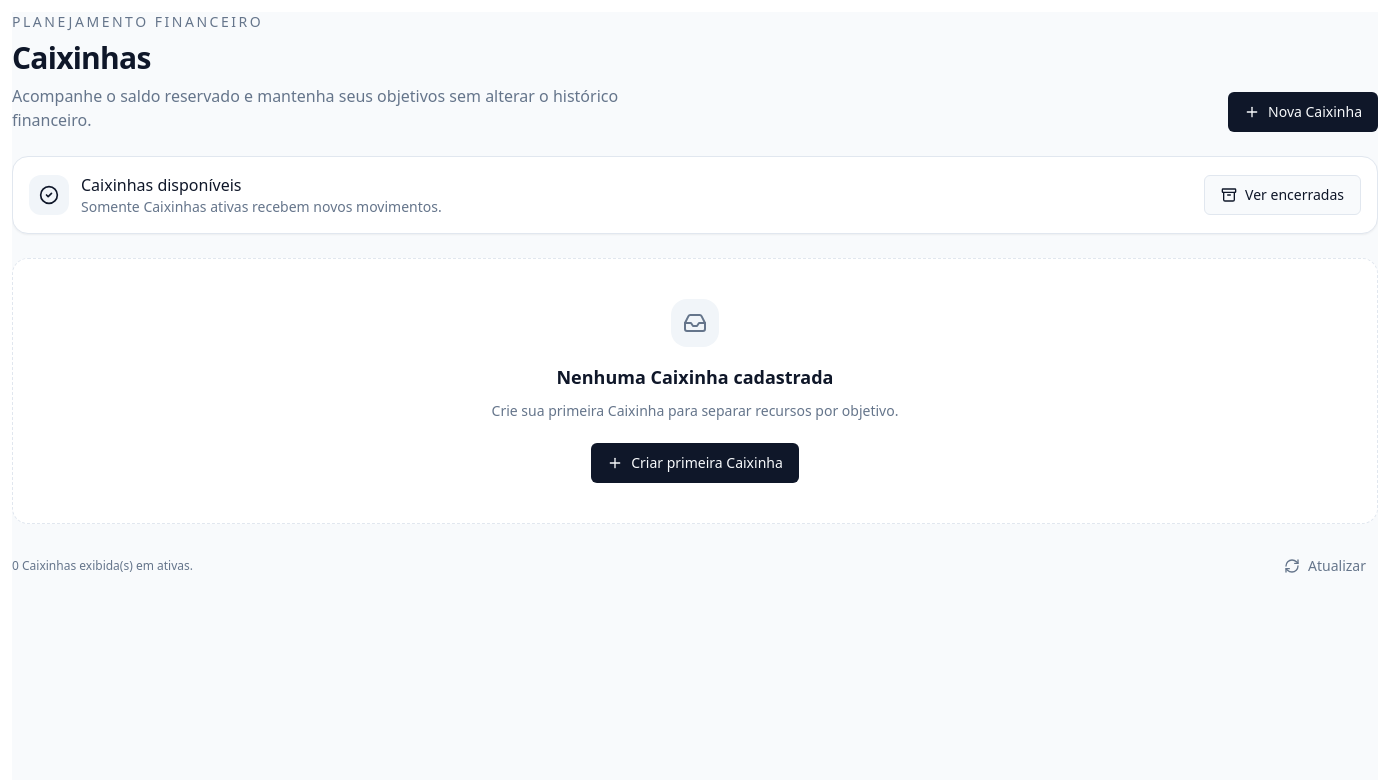
Test: BudgetCollectionScreen › shows opaque loading errors and category availability errors
The image size is (1390, 780).
Click the button with test id "budgets-create-button": (1303, 112) [1228,92,1378,132]
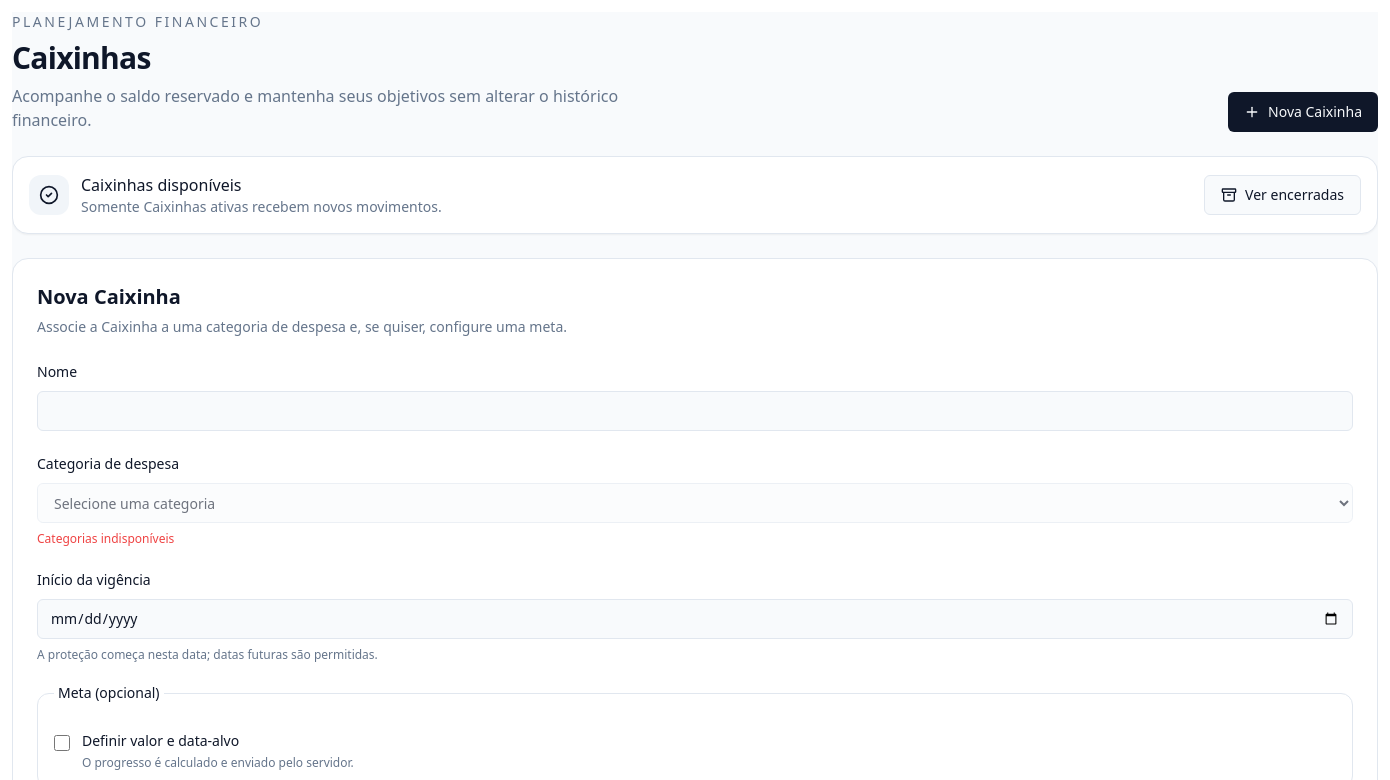
Expected: the text "Categorias indisponíveis" is shown, [37,530,174,547]
Expected: the dropdown is disabled, [37,483,1353,523]
